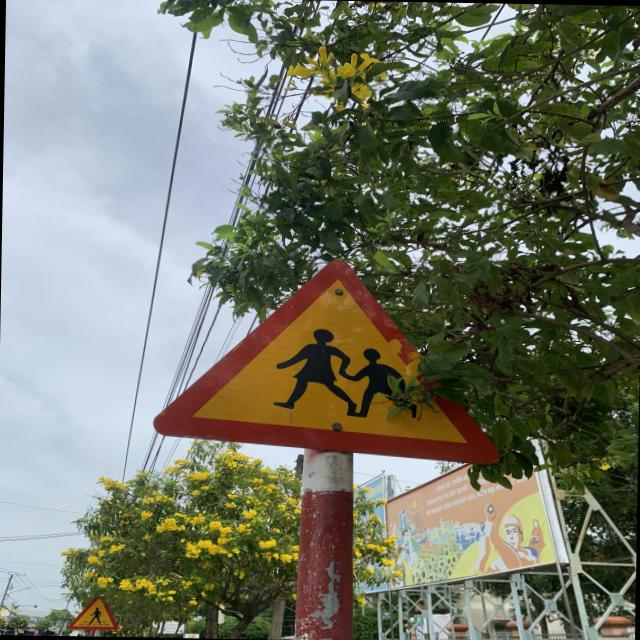Vong_Xuyen: (153, 252, 507, 466)
